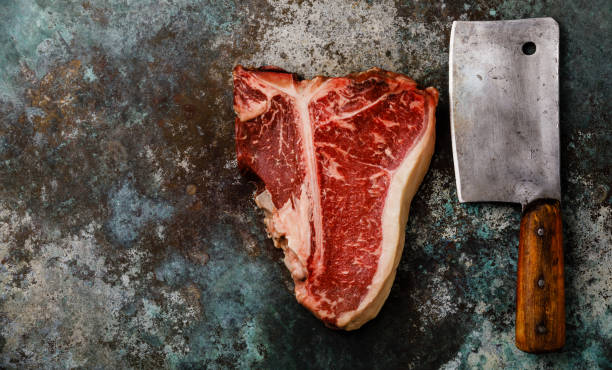knife: (444, 14, 571, 356)
